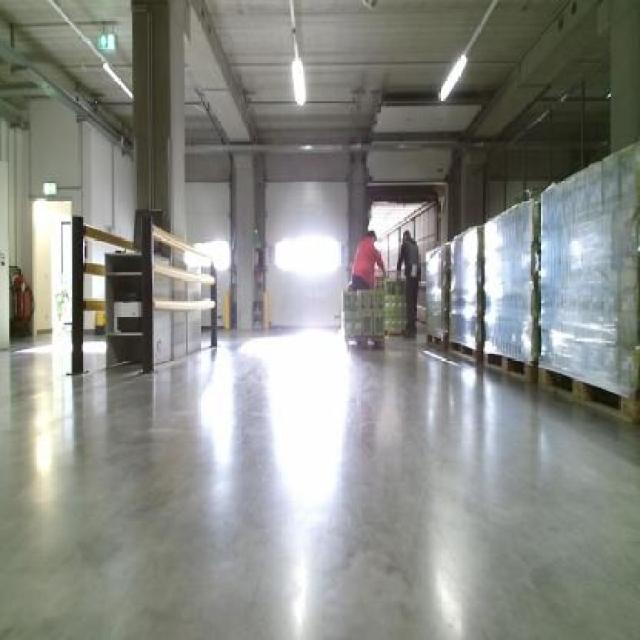floor: (0, 329, 637, 637)
pallets: (425, 140, 637, 415), (538, 142, 637, 394), (483, 197, 537, 380)
